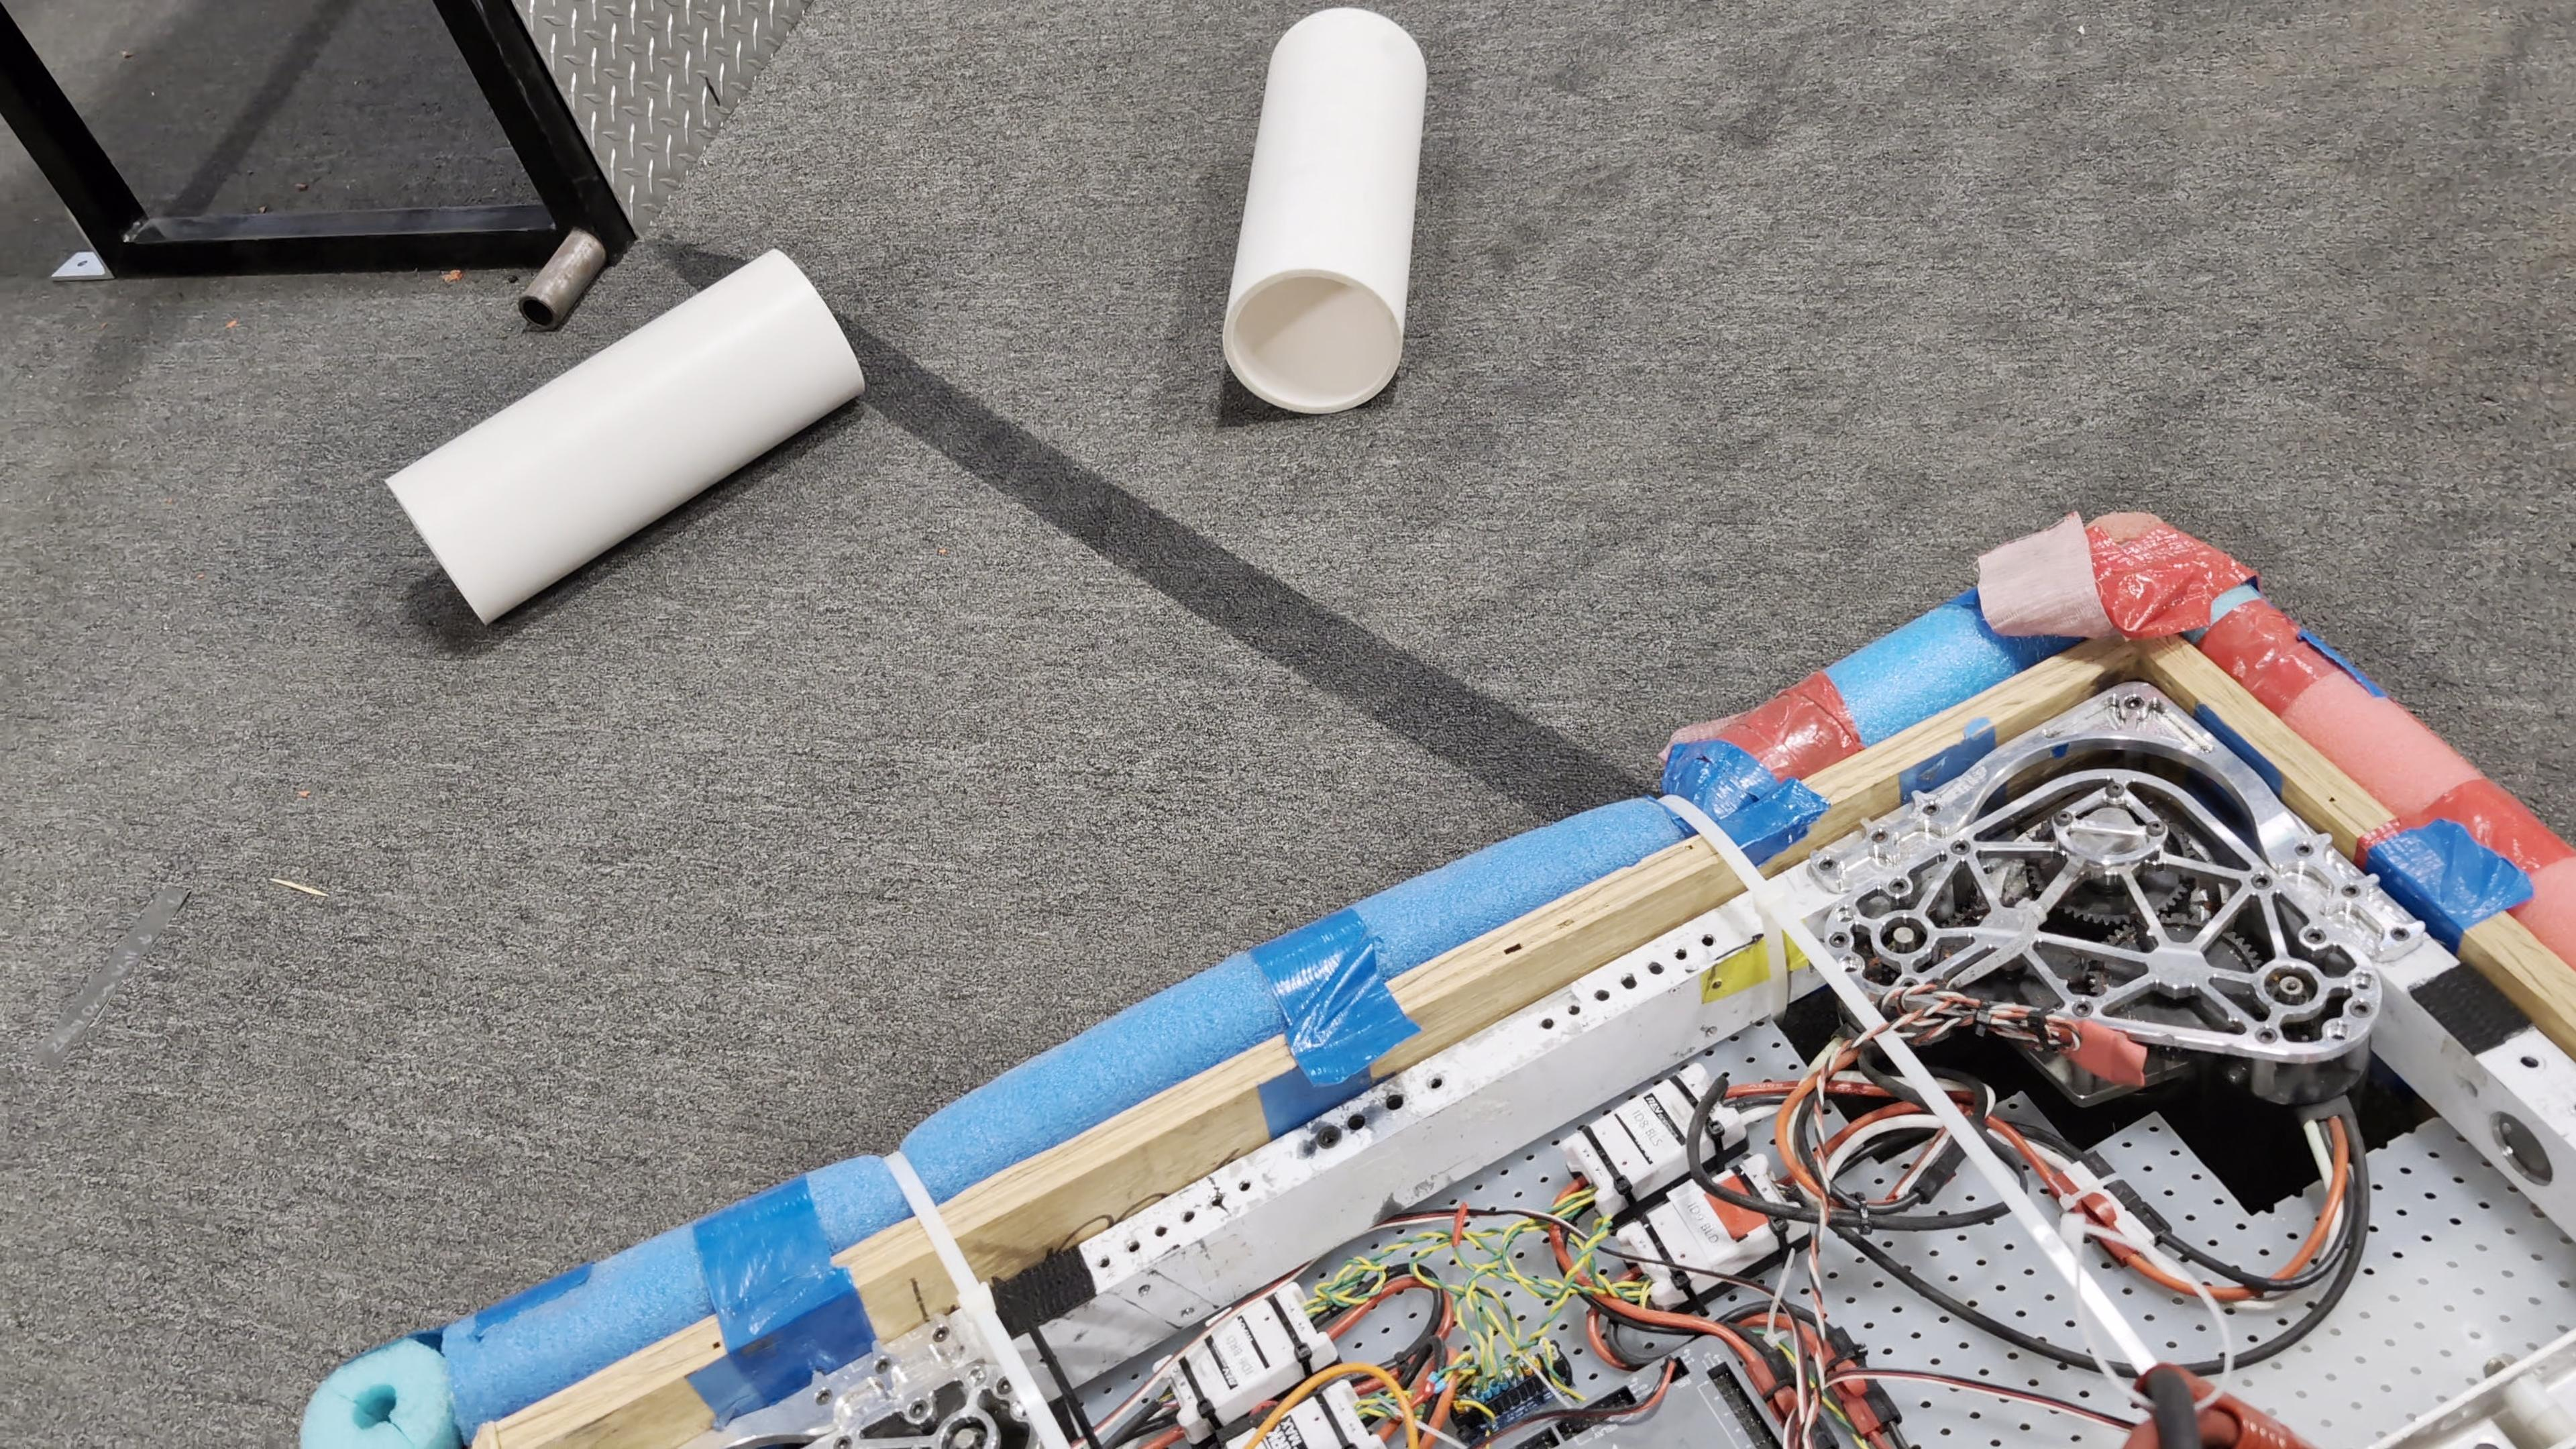coral: (382, 242, 868, 625), (1221, 5, 1430, 415)
